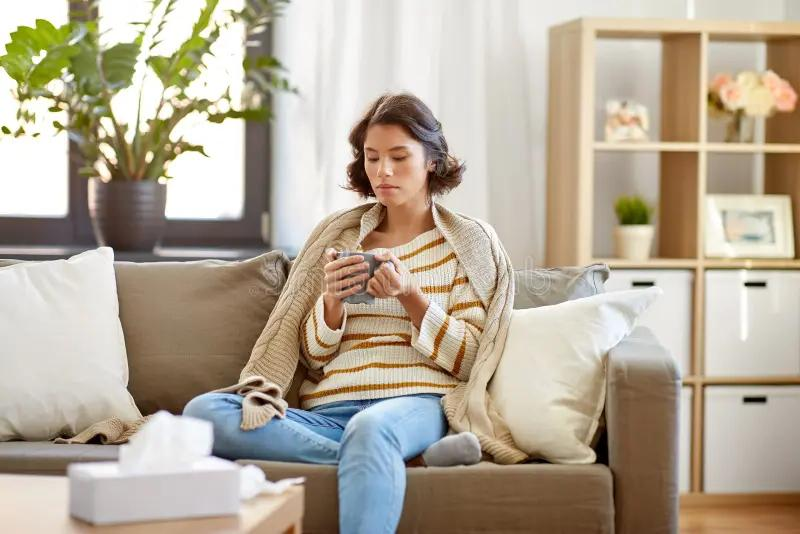blanket: (208, 195, 528, 466)
sweater: (296, 223, 488, 411)
trousers: (181, 391, 452, 534)
